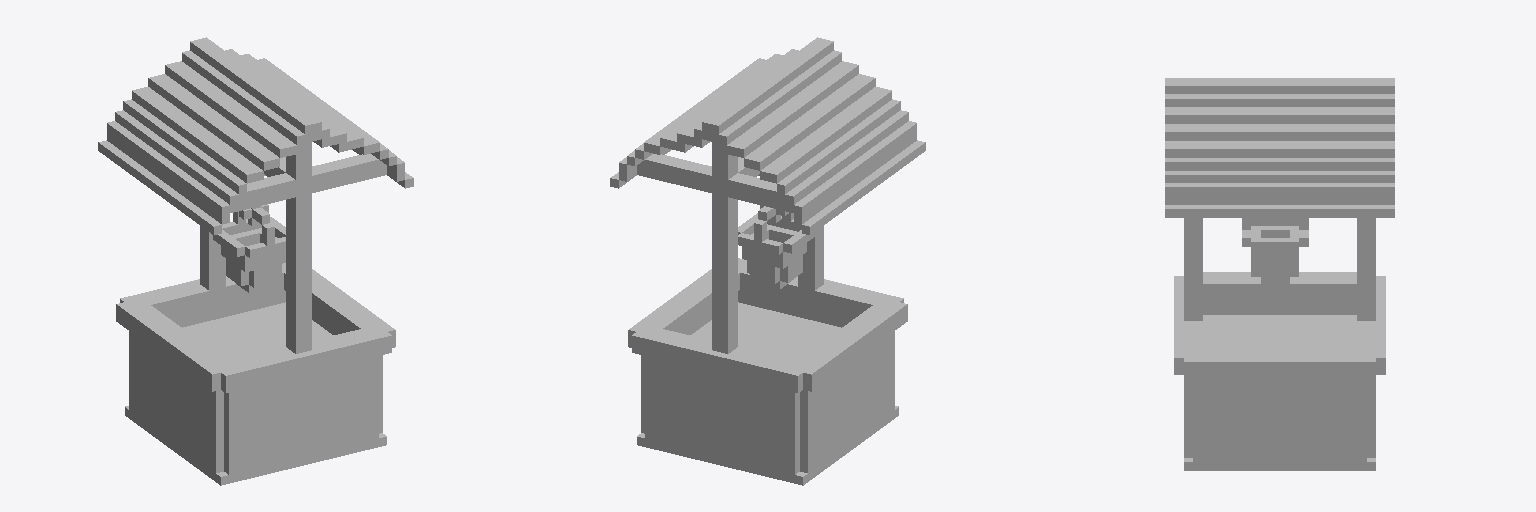
Rendered from Tarefa Poço-01.obj.
The picture shows the model from 3 angles: view 1: azimuth 30°, elevation 25°; view 2: azimuth 150°, elevation 25°; view 3: azimuth 270°, elevation 25°; orthographic projection.
Size of the model in its own units: 24 by 40 by 24.